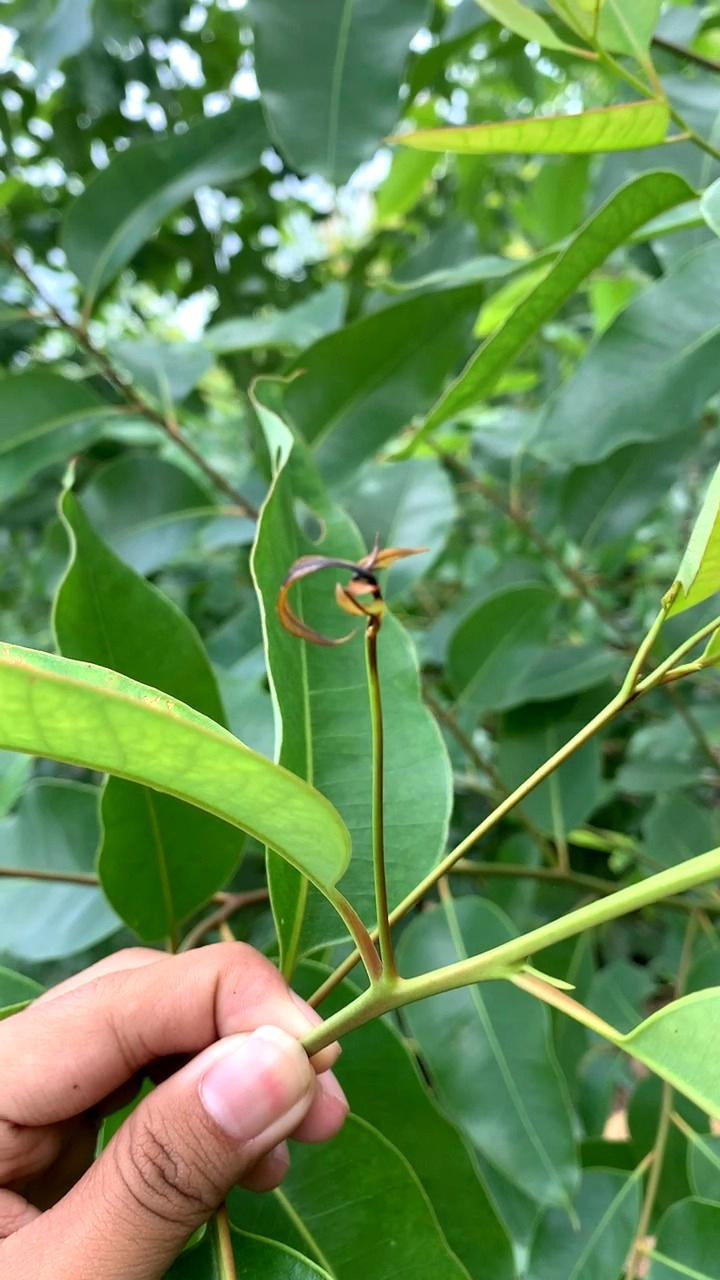Helopeltis-Withered Sprout: (271, 531, 469, 665)
